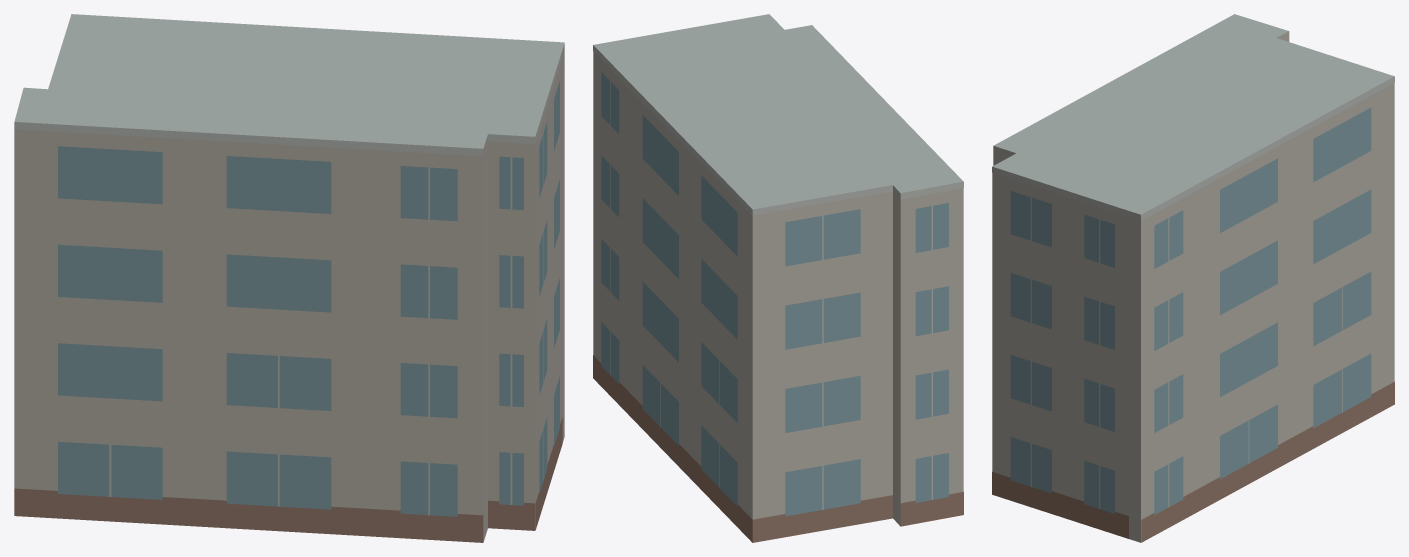
The model's file is survey-upis-32618650.glb.
The picture shows the model from 3 angles, left to right: view 1: azimuth 30°, elevation 25°; view 2: azimuth 150°, elevation 25°; view 3: azimuth 270°, elevation 25°; orthographic projection. The views are drawn at different scales.
Visible parts, largest first — view 1: survey-upis-32618650.tmp; view 2: survey-upis-32618650.tmp; view 3: survey-upis-32618650.tmp.
Boxes of the visible parts, bbox=[...] form: survey-upis-32618650.tmp: bbox=[14, 14, 564, 542]; survey-upis-32618650.tmp: bbox=[593, 14, 963, 542]; survey-upis-32618650.tmp: bbox=[992, 14, 1394, 542].
Bounding box in the file's own units: 16.94 × 12.9 × 14.35.
